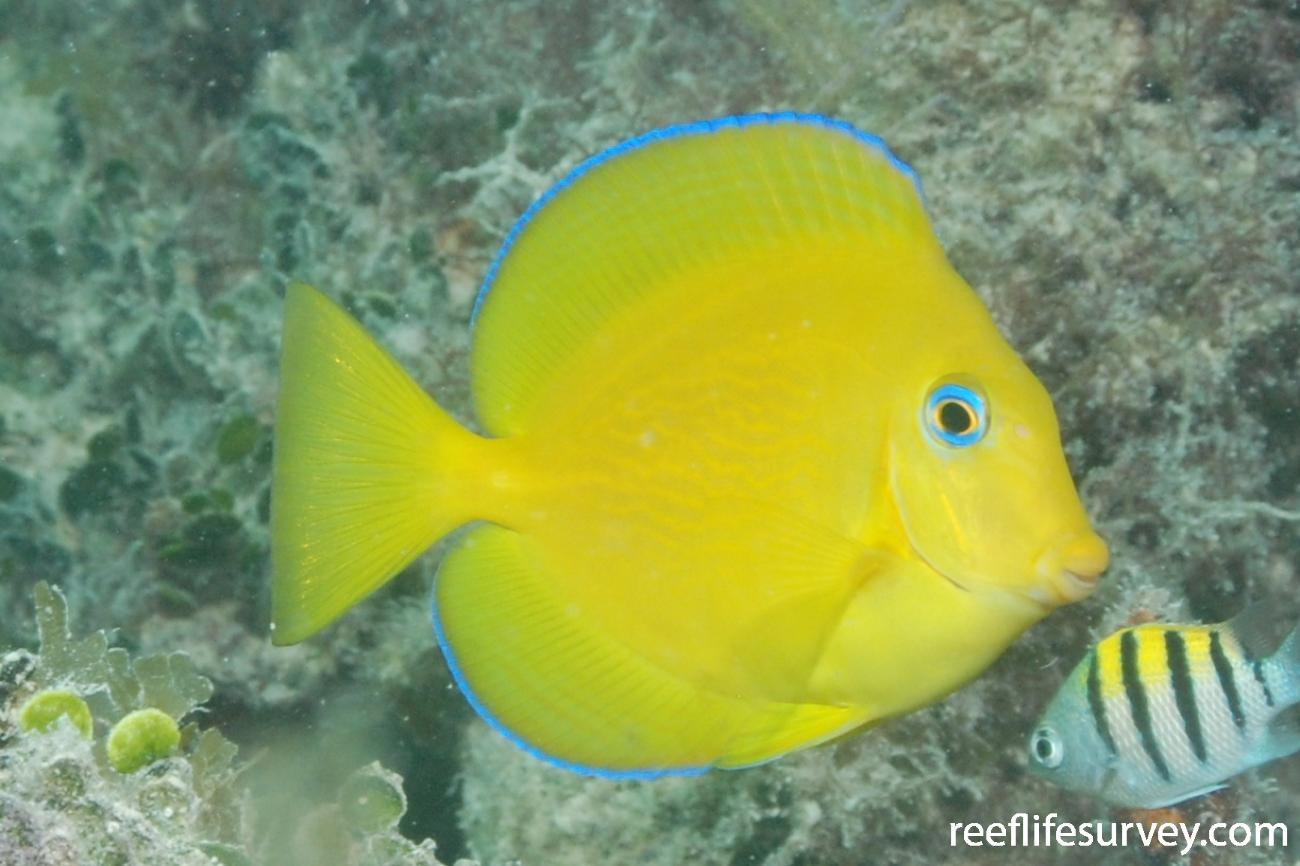Acanthurus_coeruleus: (258, 104, 1114, 787)
